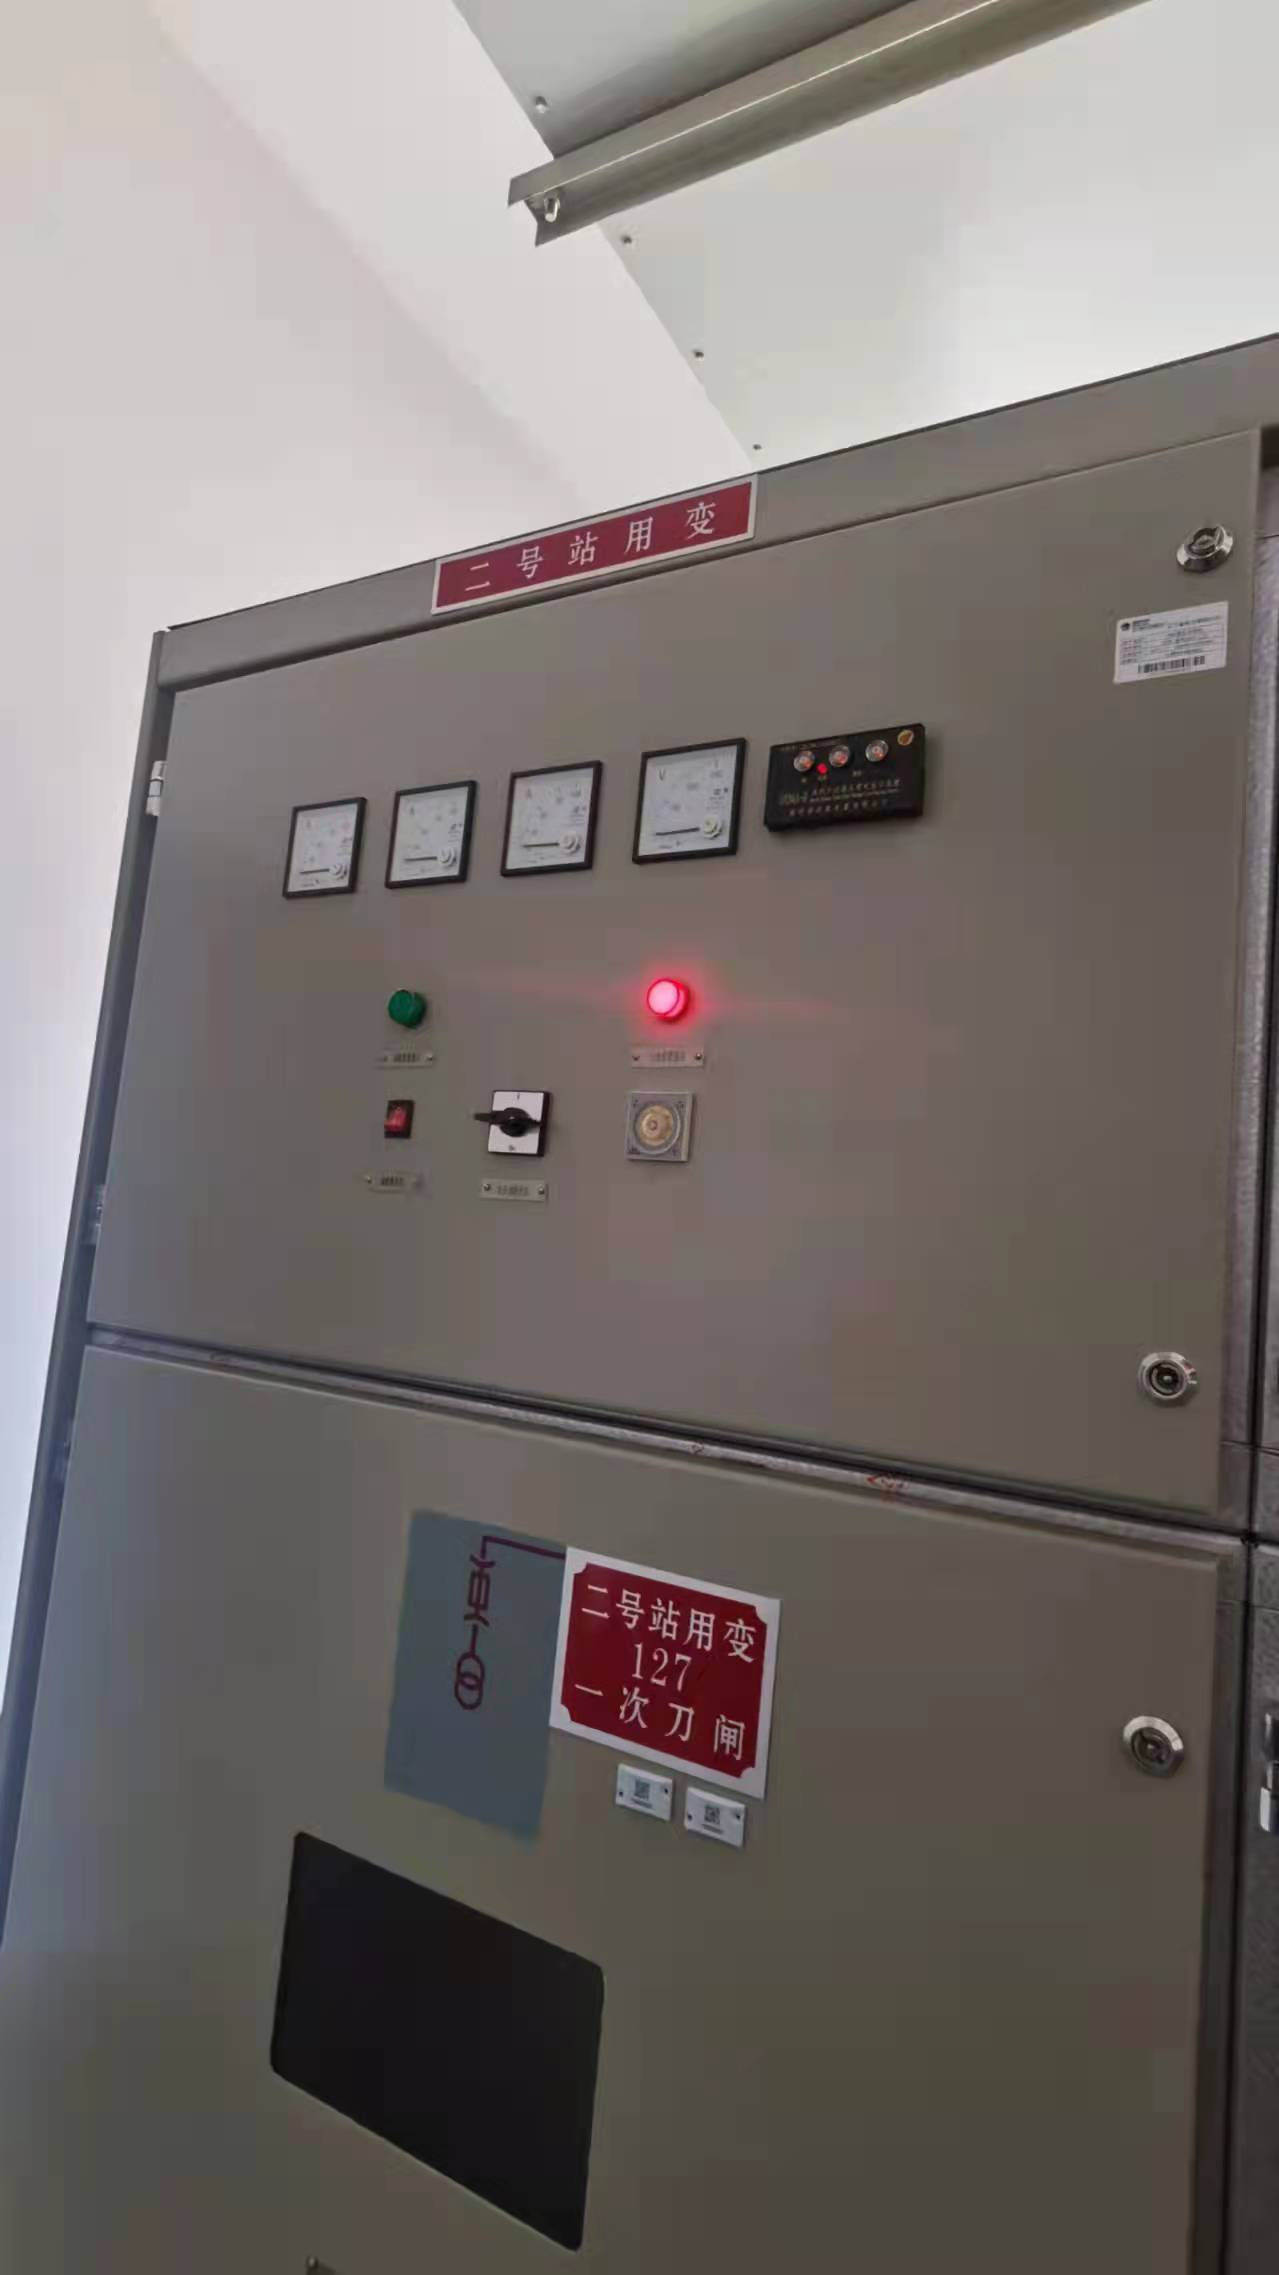pointer: (636, 752, 734, 856), (501, 767, 592, 862), (386, 786, 468, 878), (287, 798, 358, 889)
